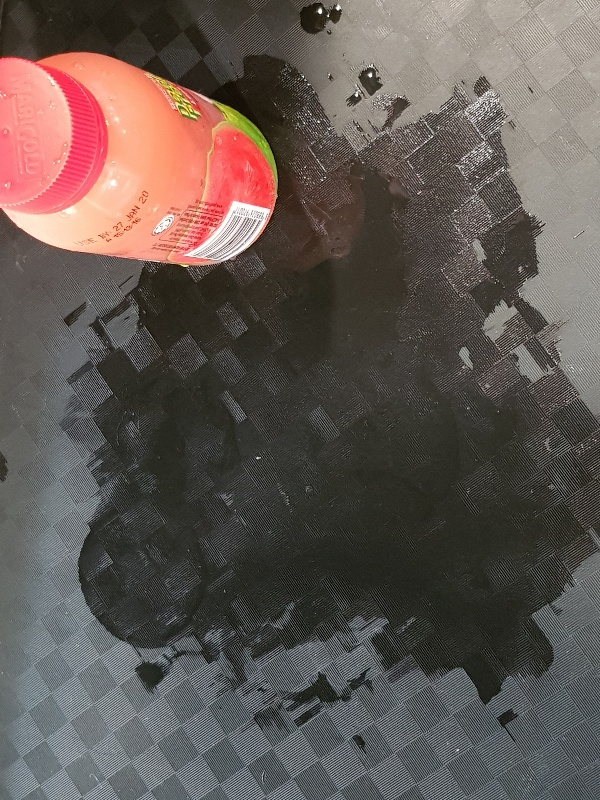Marigold Peel Fresh Pink Guava Juice Drink: (1, 50, 277, 267)
